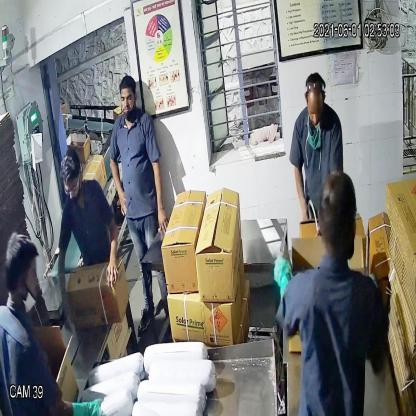goggles: (58, 176, 83, 199)
